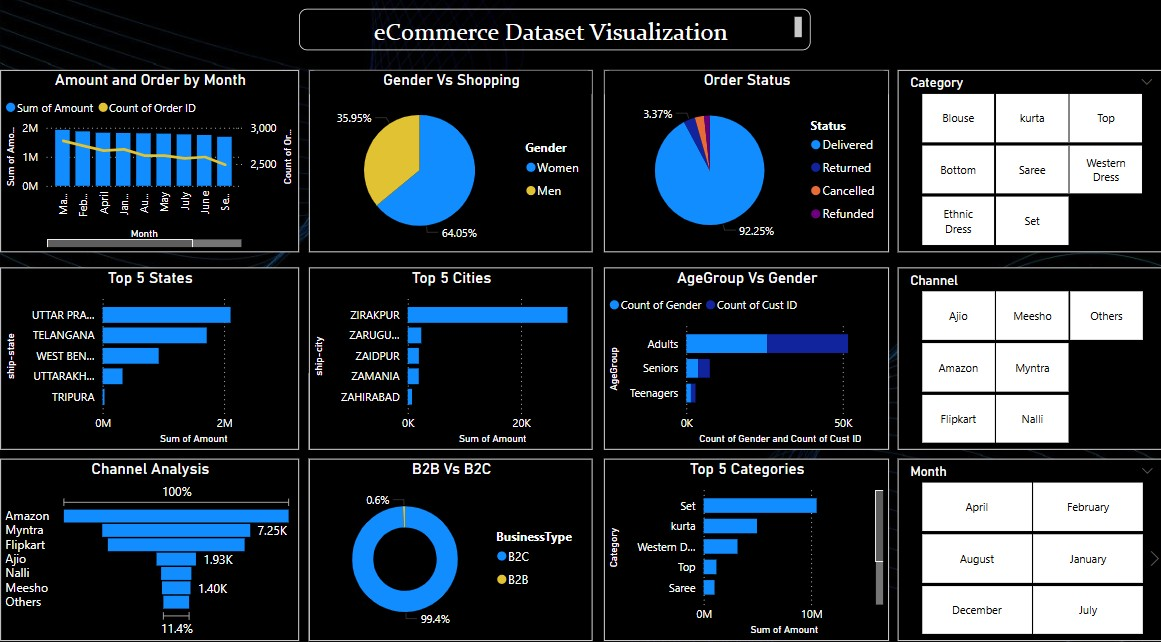

This screenshot's page, from the dashboard's own definition file:
{"tool":"powerbi","page":{"name":"Page 1","canvas":[1280,720],"ordinal":0},"visuals":[{"type":"textbox","box":[329.3,9.6,561.2,45.3],"z":0},{"type":"lineClusteredColumnComboChart","title":"Amount and Order by Month","fields":{"Category":["MyStore.Month"],"Y":["Sum(MyStore.Amount)"],"Y2":["CountNonNull(MyStore.Order ID)"]},"box":[1.4,76.8,328,200.3],"z":1000},{"type":"pieChart","title":"Gender Vs Shopping","fields":{"Category":["MyStore.Gender"],"Y":["Sum(MyStore.Amount)"]},"box":[340.3,76.8,311.5,200.3],"z":2000},{"type":"pieChart","title":"Order Status","fields":{"Y":["CountNonNull(MyStore.Status)"],"Category":["MyStore.Status"]},"box":[664.2,76.8,312.9,200.3],"z":3000},{"type":"clusteredBarChart","title":"Top 5 States","fields":{"Category":["MyStore.ship-state"],"Y":["Sum(MyStore.Amount)"]},"box":[1.4,293.7,328,200.3],"z":4000},{"type":"funnel","title":"Channel Analysis","fields":{"Category":["MyStore.Channel "],"Y":["CountNonNull(MyStore.Category)"]},"box":[1.4,503.6,328,200.3],"z":5000},{"type":"clusteredBarChart","title":"Top 5 Cities","fields":{"Category":["MyStore.ship-city"],"Y":["Sum(MyStore.Amount)"]},"box":[340.3,293.7,311.5,200.3],"z":6000},{"type":"donutChart","title":"B2B Vs B2C","fields":{"Category":["MyStore.BusinessType"],"Y":["CountNonNull(MyStore.BusinessType)"]},"box":[340.3,503.6,311.5,200.3],"z":7000},{"type":"barChart","title":"AgeGroup Vs Gender","fields":{"Category":["MyStore.AgeGroup"],"Y":["CountNonNull(MyStore.Gender)","CountNonNull(MyStore.Cust ID)"]},"box":[664.2,293.7,312.9,200.3],"z":8000},{"type":"barChart","title":"Top 5 Categories","fields":{"Category":["MyStore.Category"],"Y":["Sum(MyStore.Amount)"]},"box":[664.2,503.6,312.9,200.3],"z":9000},{"type":"slicer","fields":{"Values":["MyStore.Category"]},"box":[987,77,293,200],"z":10000},{"type":"slicer","fields":{"Values":["MyStore.Channel "]},"box":[986.6,293.7,293.7,200.3],"z":11000},{"type":"slicer","fields":{"Values":["MyStore.Month"]},"box":[986.6,503.6,293.7,200.3],"z":12000}]}

Visuals, with their boxes in screenshot pixels (x1, y1, x2, y2), scaled from the page's 1280x720 canvas onto the 1161x642 screenshot:
textbox: [299,9,808,49]
"Amount and Order by Month" lineClusteredColumnComboChart: [1,68,299,247]
"Gender Vs Shopping" pieChart: [309,68,591,247]
"Order Status" pieChart: [602,68,886,247]
"Top 5 States" clusteredBarChart: [1,262,299,440]
"Channel Analysis" funnel: [1,449,299,628]
"Top 5 Cities" clusteredBarChart: [309,262,591,440]
"B2B Vs B2C" donutChart: [309,449,591,628]
"AgeGroup Vs Gender" barChart: [602,262,886,440]
"Top 5 Categories" barChart: [602,449,886,628]
slicer - MyStore.Category: [895,69,1160,247]
slicer - MyStore.Channel : [895,262,1160,440]
slicer - MyStore.Month: [895,449,1160,628]
